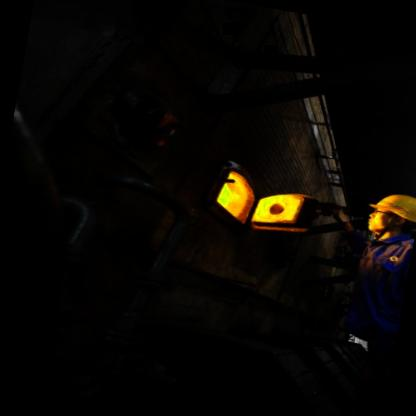helmet: (361, 186, 416, 242)
